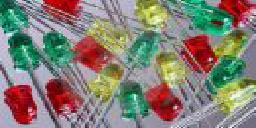LED: (147, 78, 187, 126), (39, 29, 80, 72), (156, 50, 196, 92), (3, 81, 37, 124), (90, 61, 123, 102)
